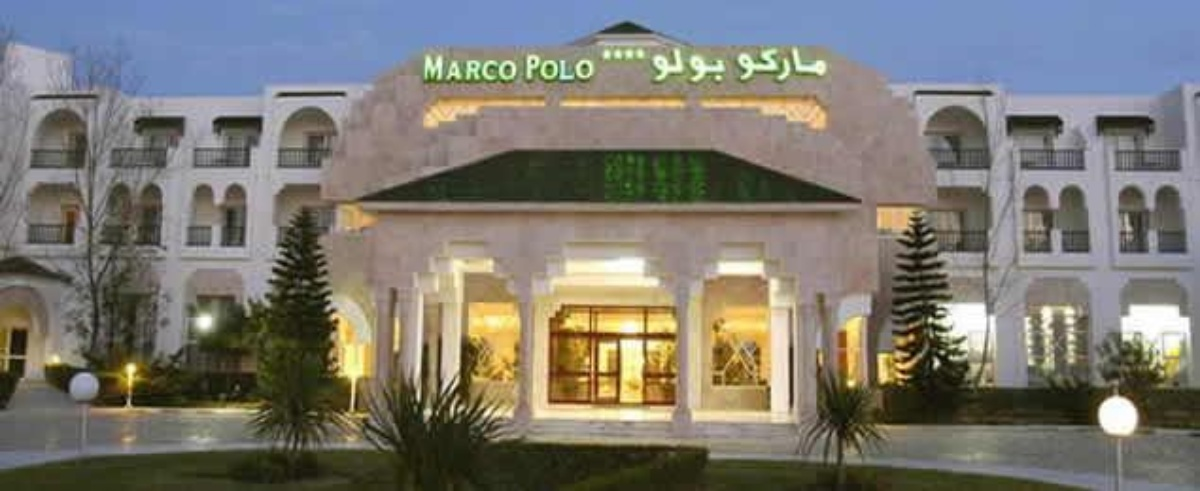text: (657, 44, 672, 87), (673, 44, 688, 87), (689, 44, 704, 87), (705, 44, 720, 87), (737, 44, 752, 84), (753, 44, 768, 84), (769, 44, 784, 84), (785, 44, 800, 84), (801, 44, 816, 84), (817, 44, 830, 84), (433, 53, 448, 84), (449, 53, 464, 84), (465, 53, 480, 84), (481, 53, 496, 84), (497, 53, 512, 84), (529, 53, 544, 84), (545, 53, 560, 84), (561, 53, 576, 84), (577, 53, 592, 84), (721, 44, 728, 87), (424, 53, 432, 84), (652, 44, 656, 87), (732, 44, 736, 84), (513, 53, 518, 84), (593, 53, 596, 84), (526, 53, 528, 84)
